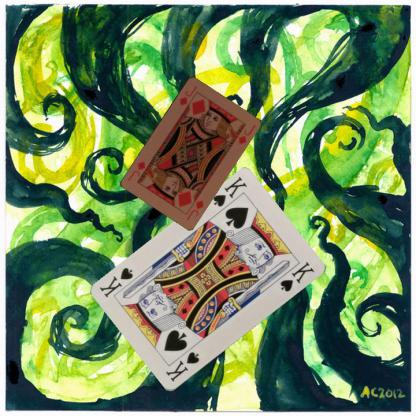Jd: (184, 197, 206, 221), (177, 83, 198, 107)
Ks: (162, 349, 201, 384), (210, 174, 248, 208)
